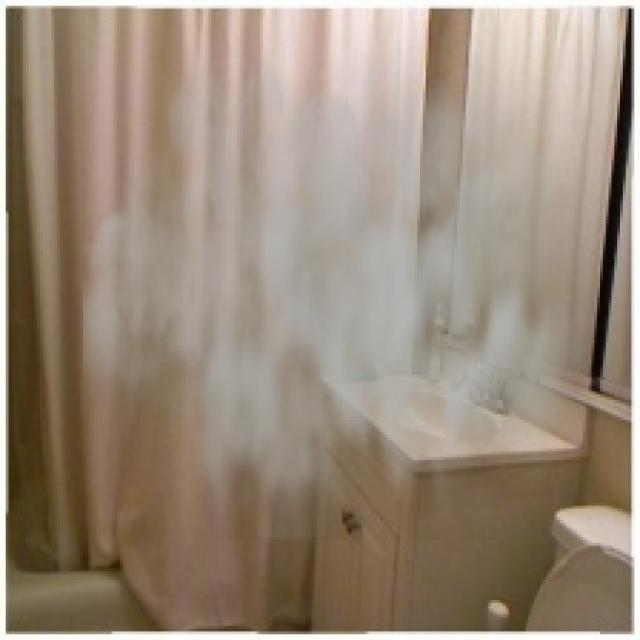Smoke: (82, 0, 608, 540)
